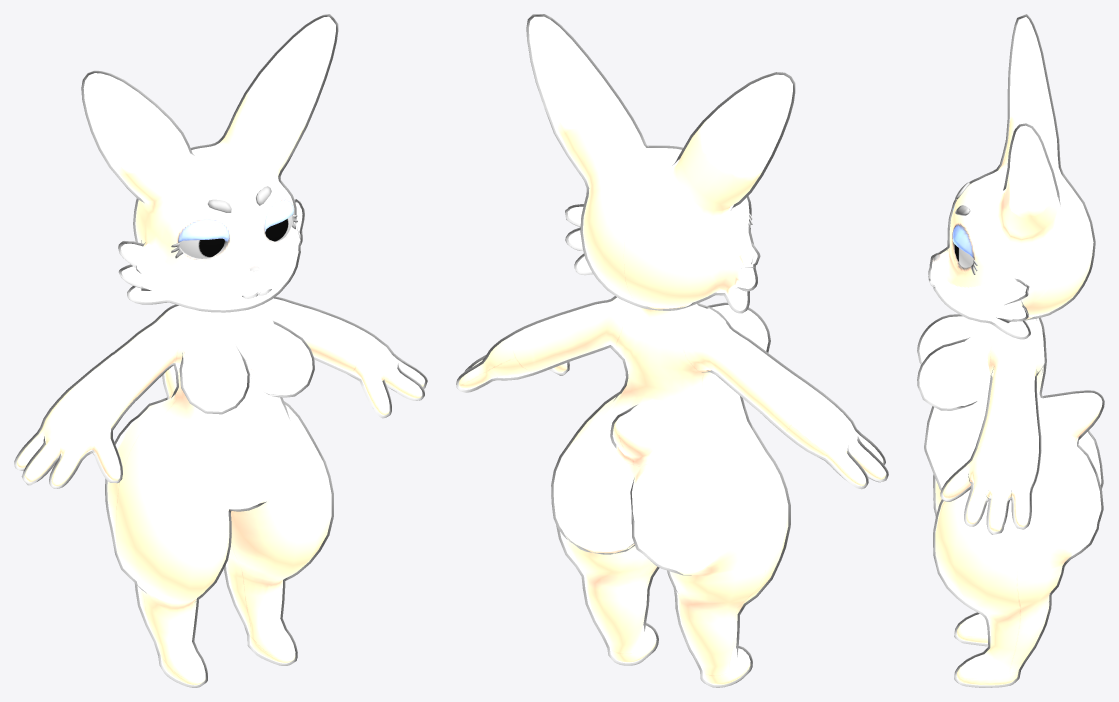
The model's file is player.glb.
The picture shows the model from 3 angles, left to right: view 1: azimuth 30°, elevation 25°; view 2: azimuth 150°, elevation 25°; view 3: azimuth 270°, elevation 25°; orthographic projection. The views are drawn at different scales.
Visible parts, largest first — view 1: cuerpo_2, ojos_3; view 2: cuerpo_2; view 3: cuerpo_2.
Part boxes in pixels (x1=…): cuerpo_2: x1=14, y1=14, x2=427, y2=687; ojos_3: x1=179, y1=215, x2=292, y2=258; cuerpo_2: x1=456, y1=14, x2=888, y2=687; cuerpo_2: x1=917, y1=14, x2=1104, y2=687.
Bounding box in the file's own units: 1.41 × 2.04 × 0.5853.
Materials: 6 (1 with a texture image).
